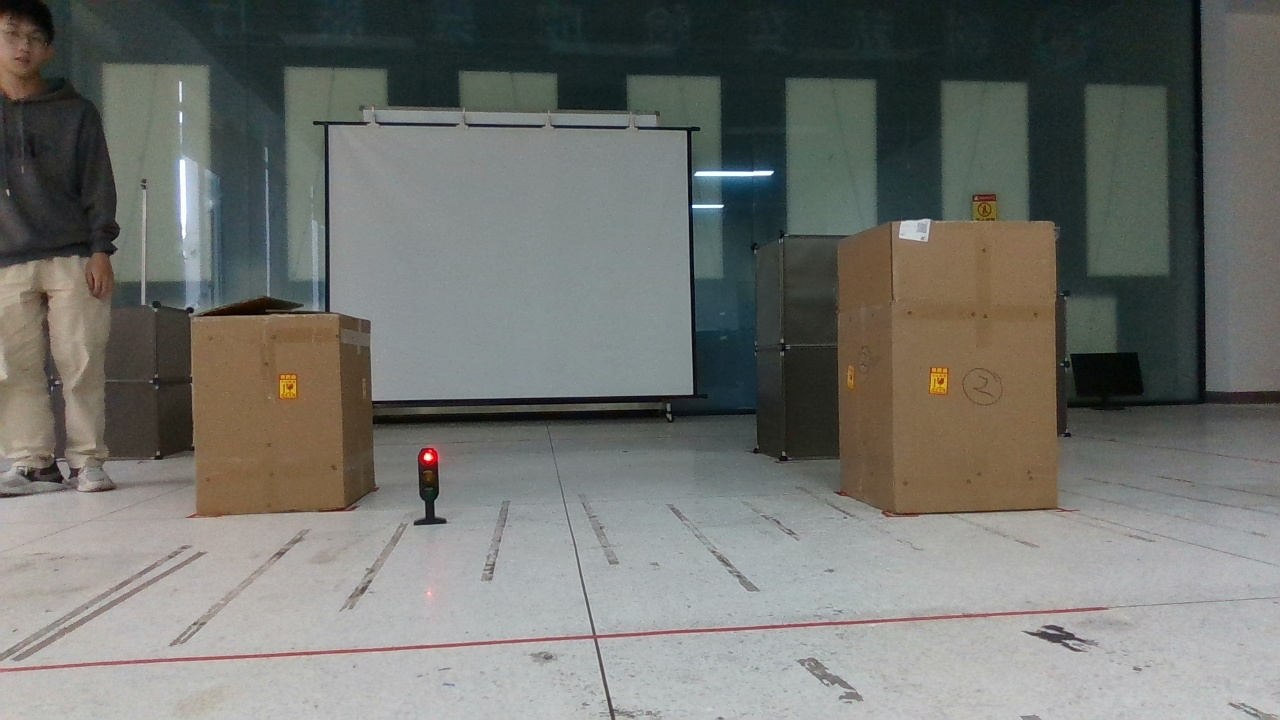red_light: (408, 438, 459, 531)
